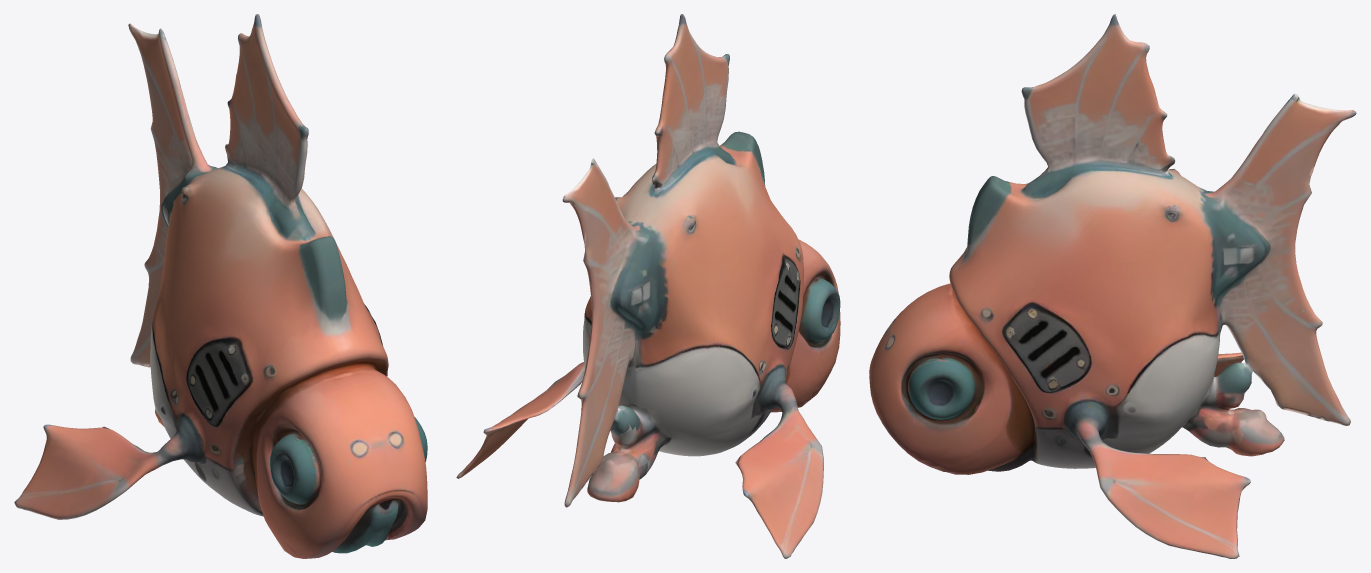
Rendered from robotic_fish-v2-dXot_EQd.glb.
3 views of the same model, side by side, from view 1: azimuth 30°, elevation 25°; view 2: azimuth 150°, elevation 25°; view 3: azimuth 270°, elevation 25° (orthographic). The views are drawn at different scales.
Parts seen in each view (by area): view 1: Object_2; view 2: Object_2; view 3: Object_2.
Part boxes in pixels (<box>): Object_2: <box>14,14,427,558</box>; Object_2: <box>456,14,840,558</box>; Object_2: <box>869,14,1356,558</box>.
Bounding box in the file's own units: 1.28 × 1.7 × 1.62.
1 material, 1 textured.
